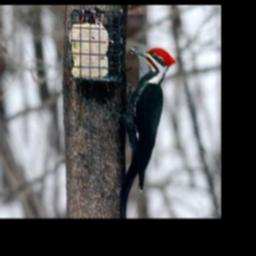Woodpecker: (104, 43, 176, 213)
